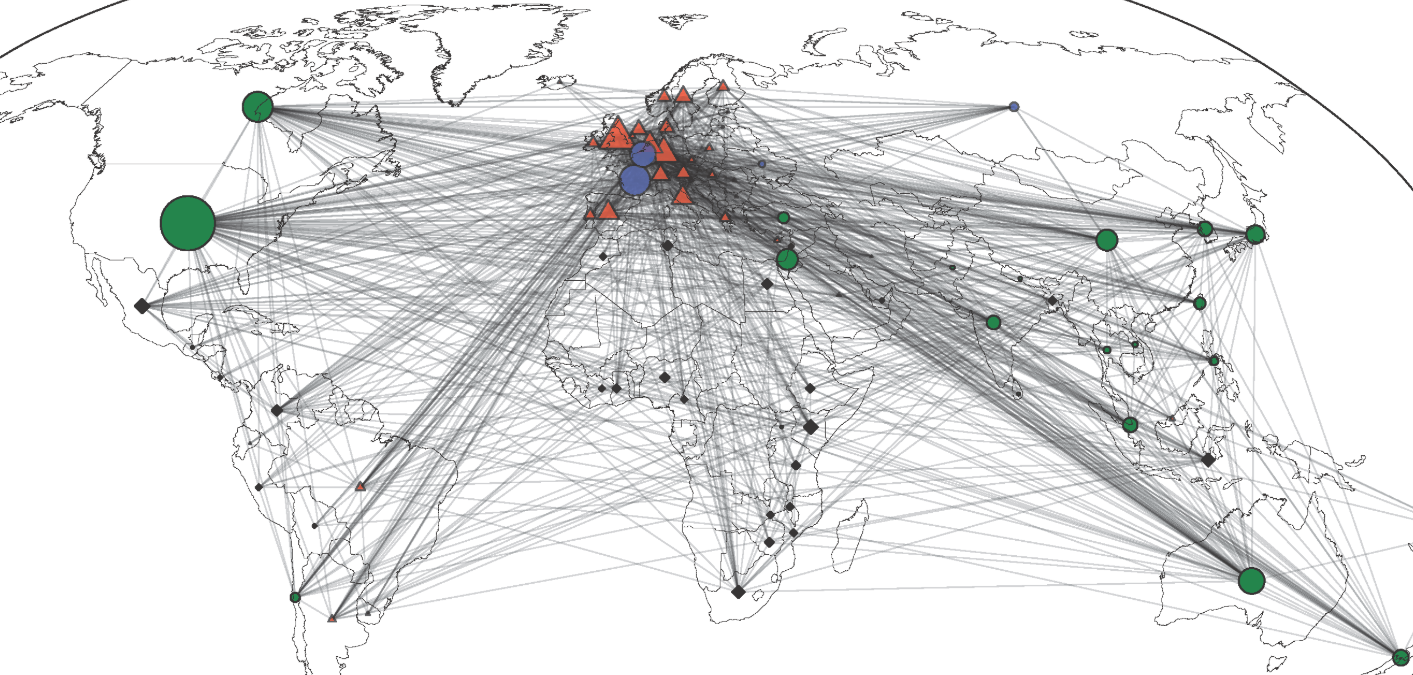

What the dashboard file says about the page in this screenshot:
{"tool":"powerbi","page":{"name":"Page 1","canvas":[1280,720],"ordinal":0},"visuals":[{"type":"NetworkNavigator1550434005853","fields":{"SOURCE_NODE":["hkcase_relationship.Column1"],"TARGET_NODE":["hkcase_relationship.Column2"]},"box":[0,0,1280,720.3],"z":0}]}

Visuals, with their boxes on the page's 1280x720 design canvas (x1, y1, x2, y2). These are canvas units, not pixel positions in the 1413x675 screenshot, which may show the page scaled, cropped or inside an application window:
NetworkNavigator1550434005853 - hkcase_relationship.Column1 x hkcase_relationship.Column2: left=0, top=0, right=1280, bottom=720
